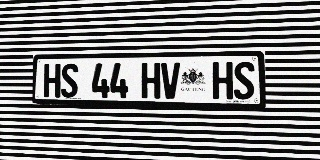4: (92, 63, 110, 98), (110, 63, 128, 98)
H: (212, 62, 233, 99), (141, 63, 160, 99), (44, 64, 61, 98)
S: (234, 62, 255, 100), (61, 64, 78, 98)
V: (161, 62, 180, 99)
